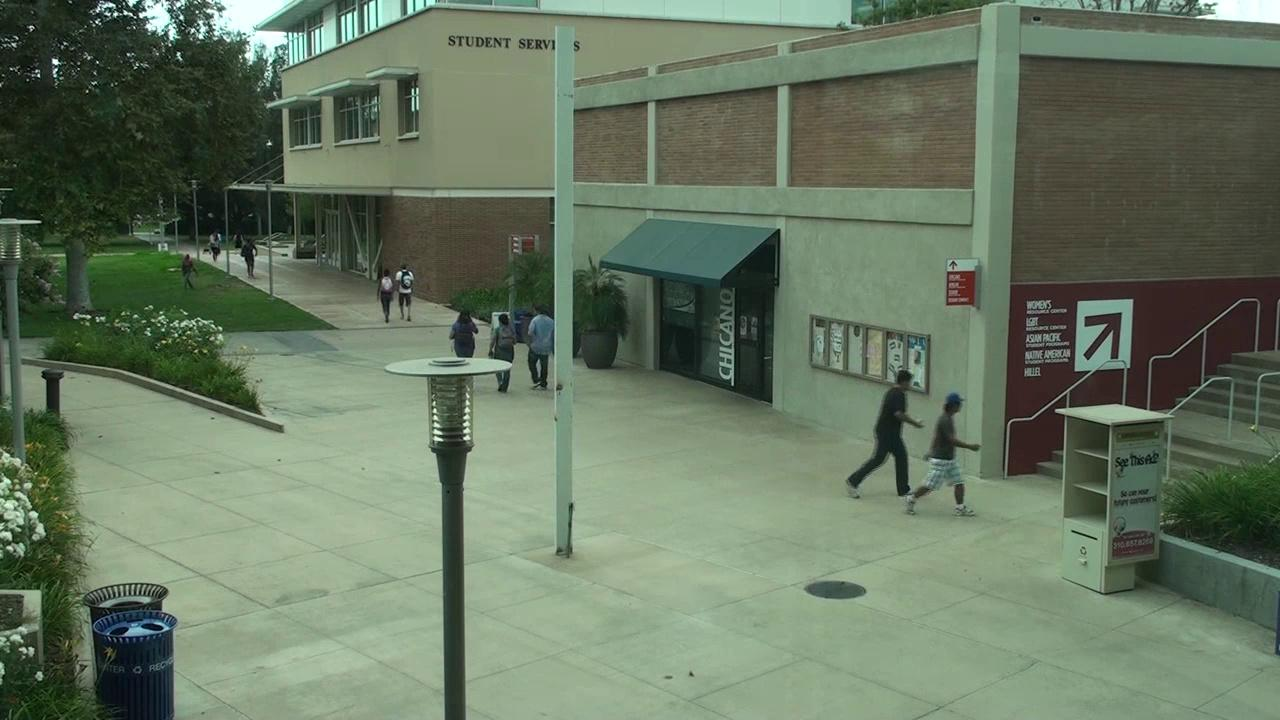person: (846, 370, 924, 496), (905, 393, 980, 515), (526, 305, 554, 389), (489, 313, 516, 360), (394, 263, 415, 320), (450, 319, 476, 356), (379, 269, 394, 323), (241, 240, 256, 277), (498, 373, 509, 392)
